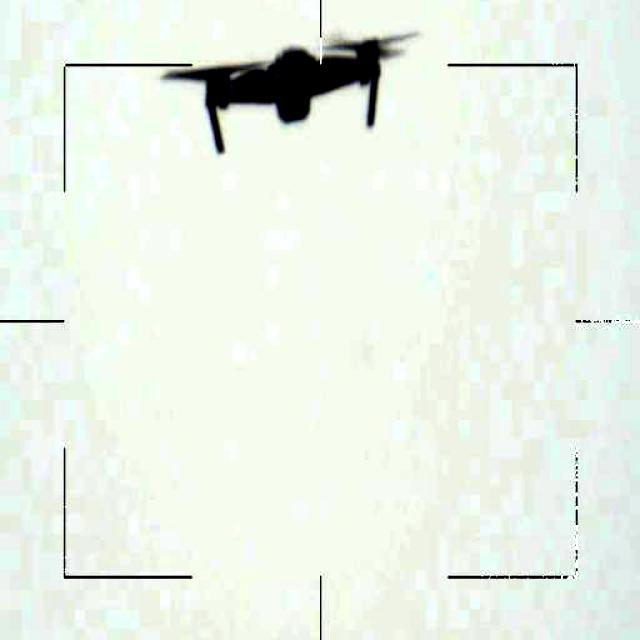bird: (160, 25, 420, 161)
